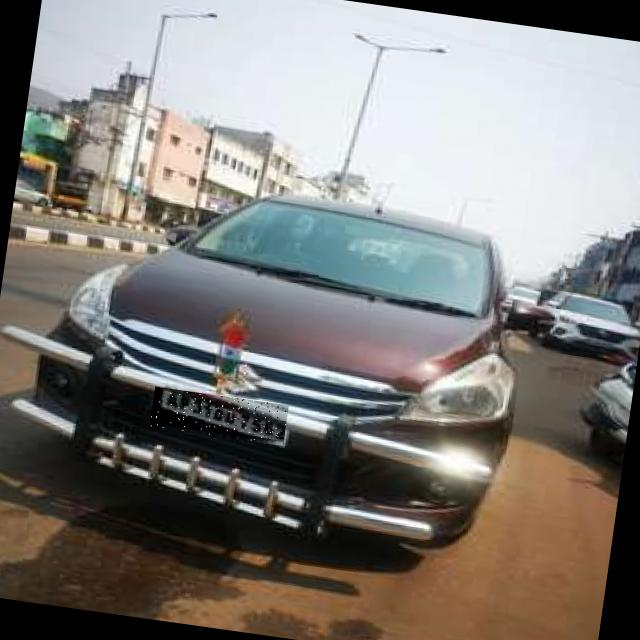Plate: (151, 389, 290, 447)
